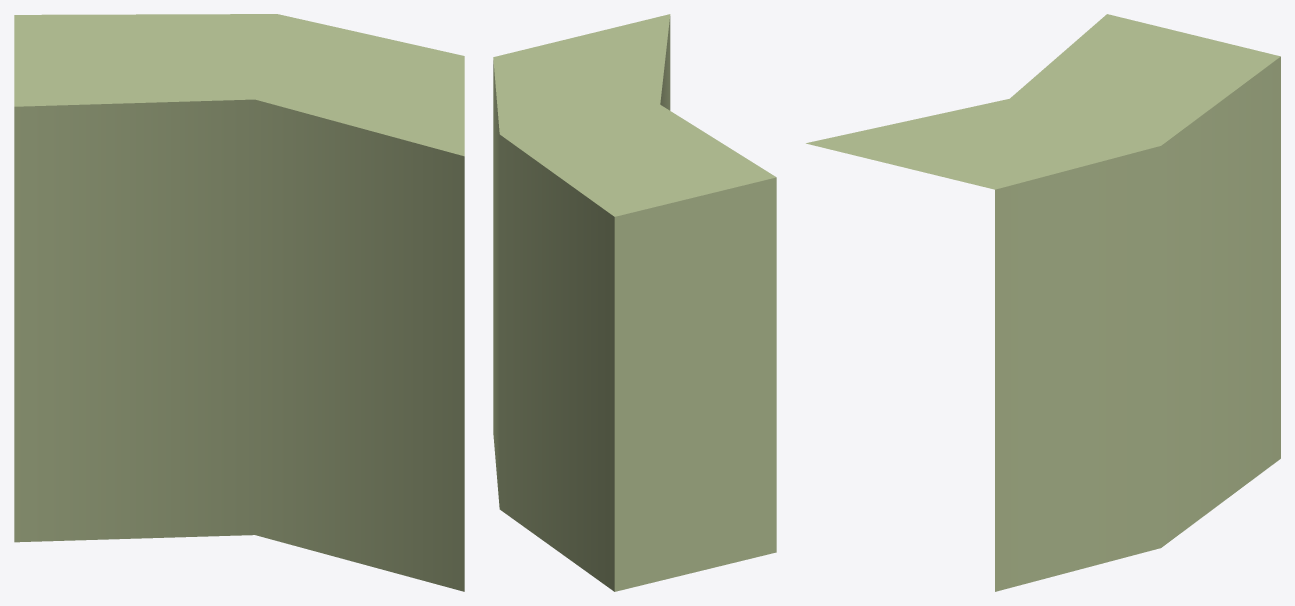
The model's file is ground_16.gltf.
The picture shows the model from 3 angles, left to right: view 1: azimuth 30°, elevation 25°; view 2: azimuth 150°, elevation 25°; view 3: azimuth 270°, elevation 25°; orthographic projection. The views are drawn at different scales.
Visible parts, largest first — view 1: yongji; view 2: yongji; view 3: yongji.
Boxes of the visible parts, left/top/right/bottom form: yongji: left=14, top=14, right=464, bottom=591; yongji: left=493, top=14, right=776, bottom=591; yongji: left=806, top=14, right=1280, bottom=591.
Size of the model in its own units: 5.07 by 5.41 by 5.8.
